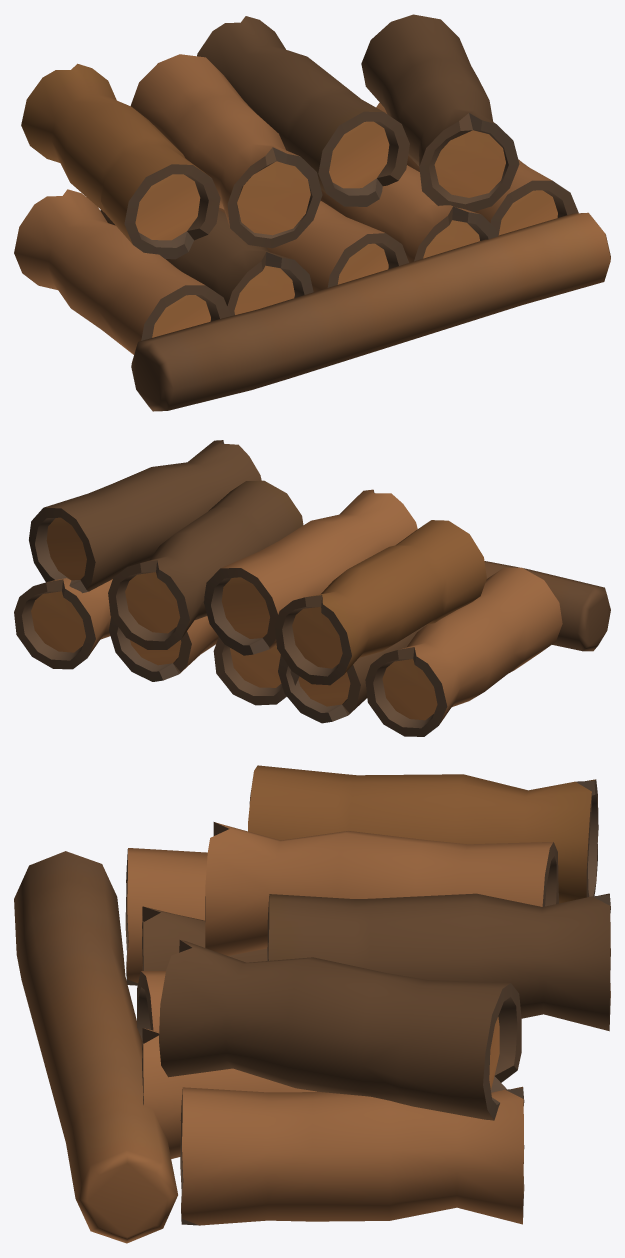
File: small-wood-pile.glb
The picture shows the model from 3 angles, top to bottom: view 1: azimuth 30°, elevation 25°; view 2: azimuth 150°, elevation 25°; view 3: azimuth 270°, elevation 25°; orthographic projection. The views are drawn at different scales.
Visible parts, largest first — view 1: small wood pile; view 2: small wood pile; view 3: small wood pile.
Part boxes in pixels (bbox=[...]): small wood pile: bbox=[14, 14, 610, 411]; small wood pile: bbox=[14, 440, 610, 736]; small wood pile: bbox=[14, 765, 610, 1243].
Size of the model in its own units: 2.76 by 0.9781 by 2.25.
1 material, 1 textured.
